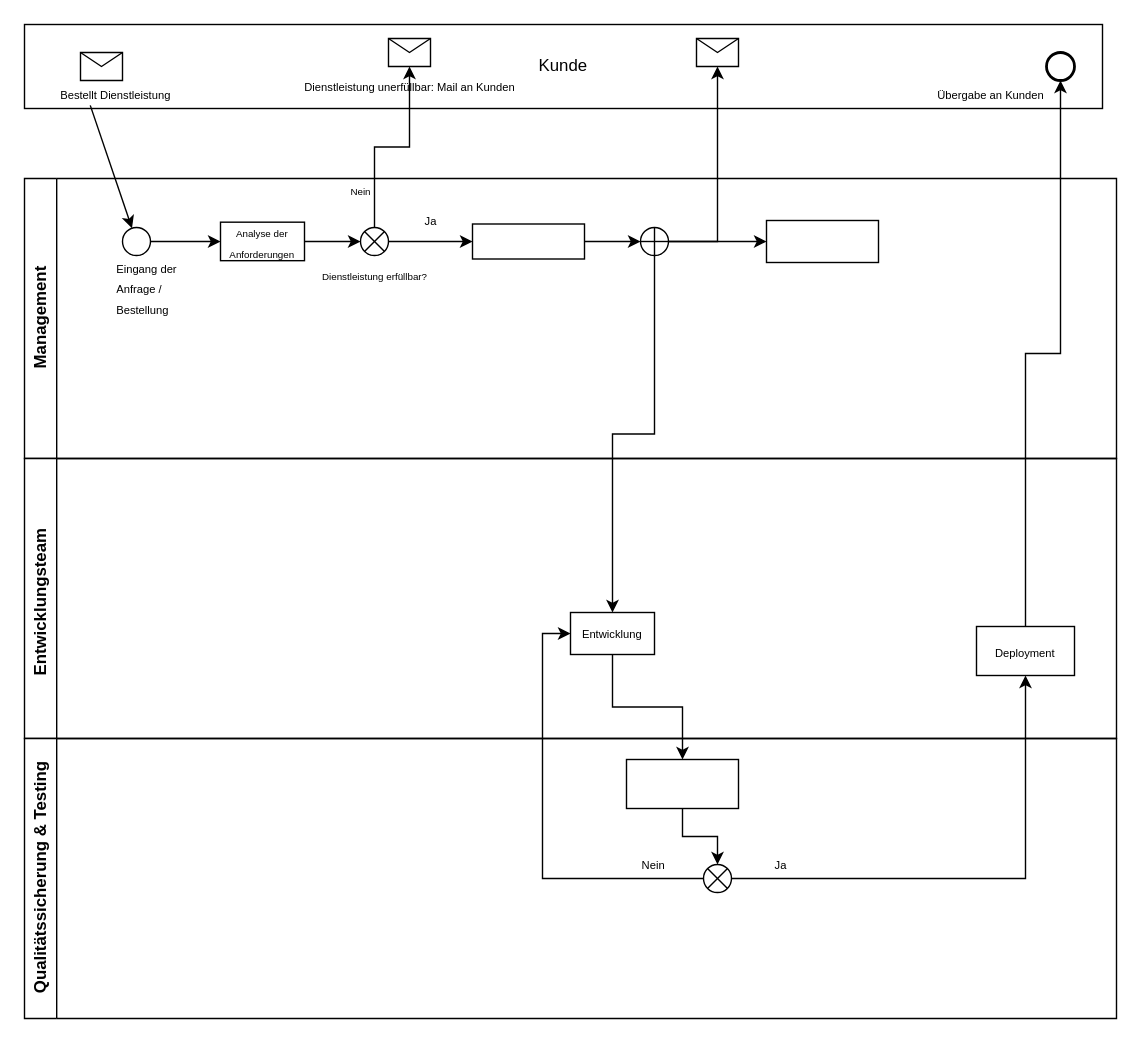
This 1141x1043 diagram has some shape labels left out. Here are the shapes that lost their labels. From the top down, the centre of each, then its label:
At point 716,51: "Übermittlung Angebot : Mail an Kunden".
At point 527,241: "Erstellung des Angebots".
At point 821,240: "Erfassung der Kundendaten".
At point 681,783: "Durchführung von Tests".
At point 717,877: "Tests erfolgreich?".
